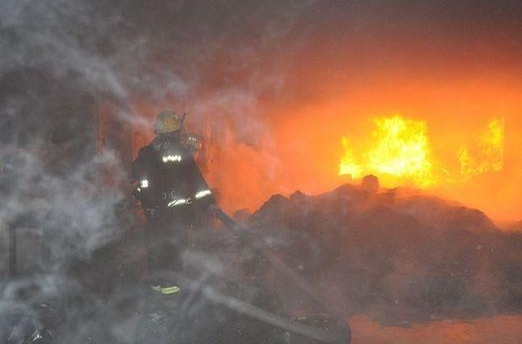山火: (336, 113, 437, 191), (439, 115, 506, 184)
烟雾: (0, 0, 522, 344)
